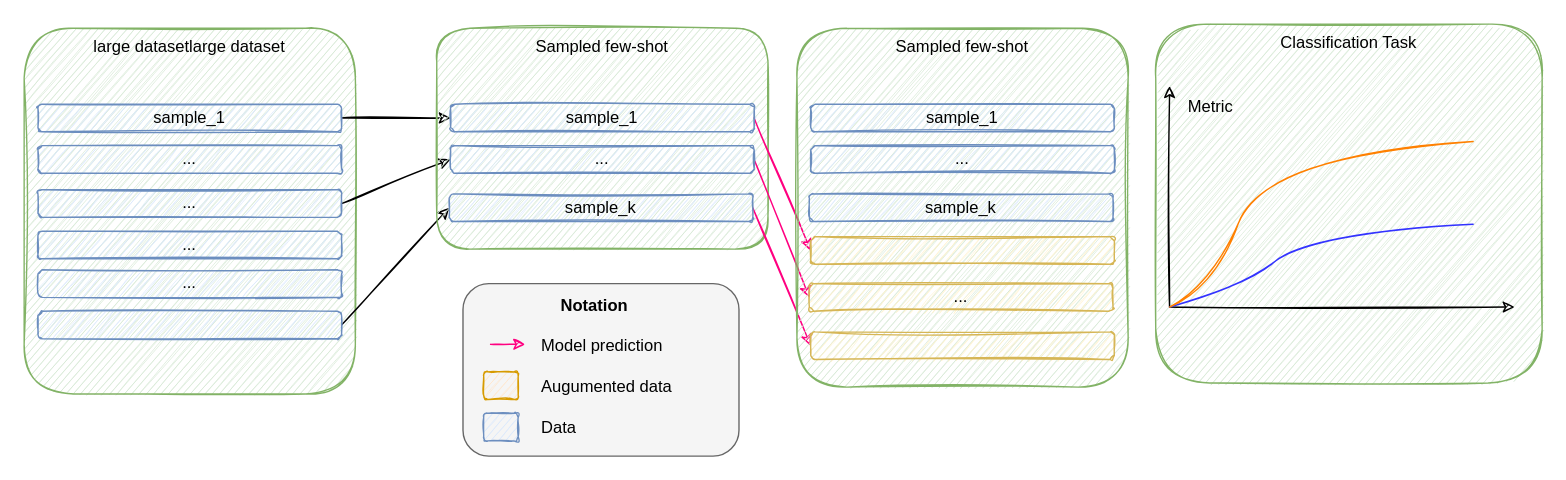
Some shapes in this 1566 by 480 pixel diagram are drawn without their labels. The shapes that lost their labels are listed below. From the top down, each one's centre as x and y in pixels, then its label:
(961,249): aug_sample_k+1
(189,324): sample_n
(961,345): aug_sample_n
